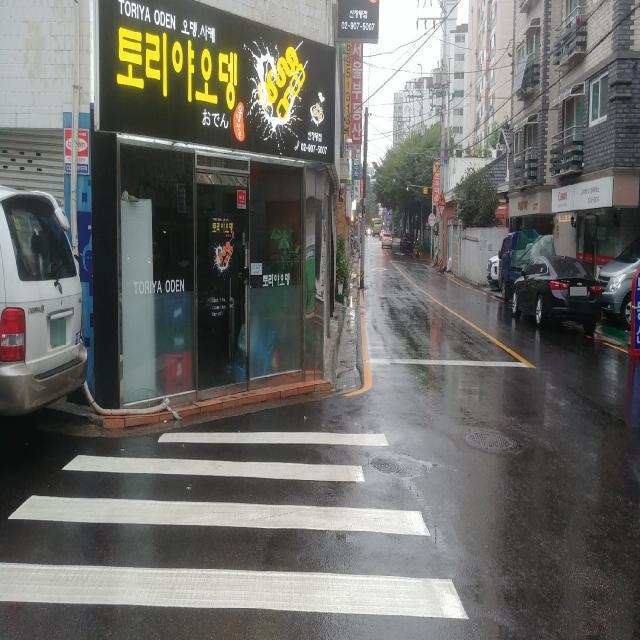횡단보도: (0, 431, 468, 623)
